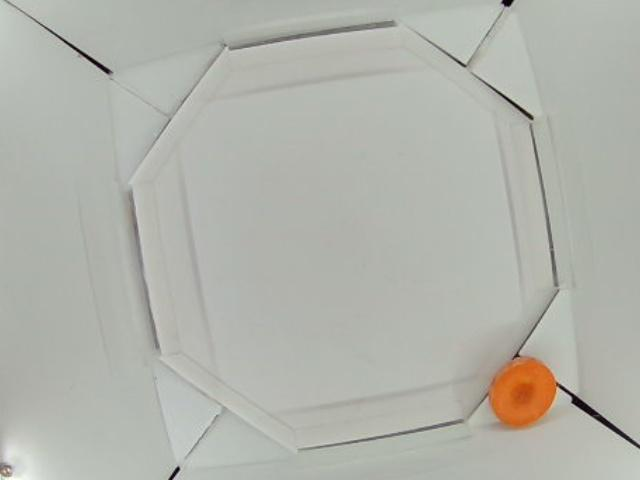Carrot: (489, 357, 558, 428)
